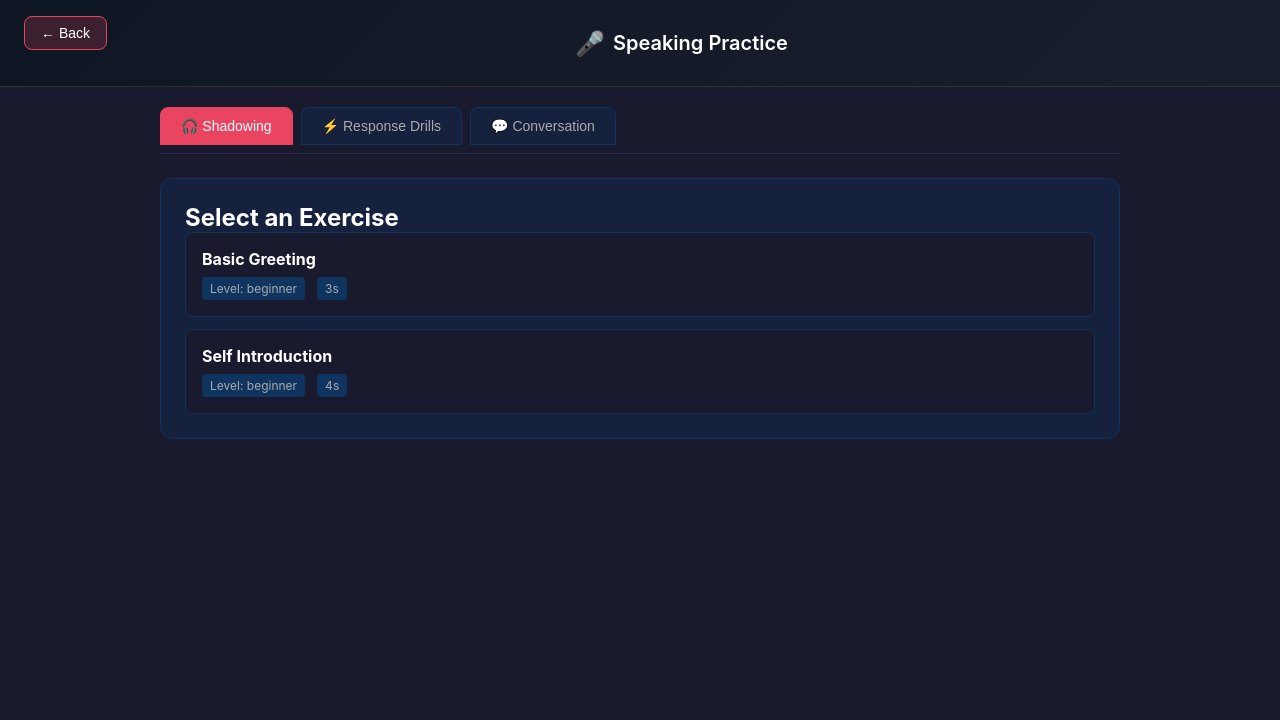
SpeakingMode › Shadowing Mode › should select an exercise when clicked
This screenshot has width=1280, height=720.
What coordinates should you click on to do the following:
click the heading "Basic Greeting"
I would click on:
 (259, 259)
Its box is [202,249,316,269].
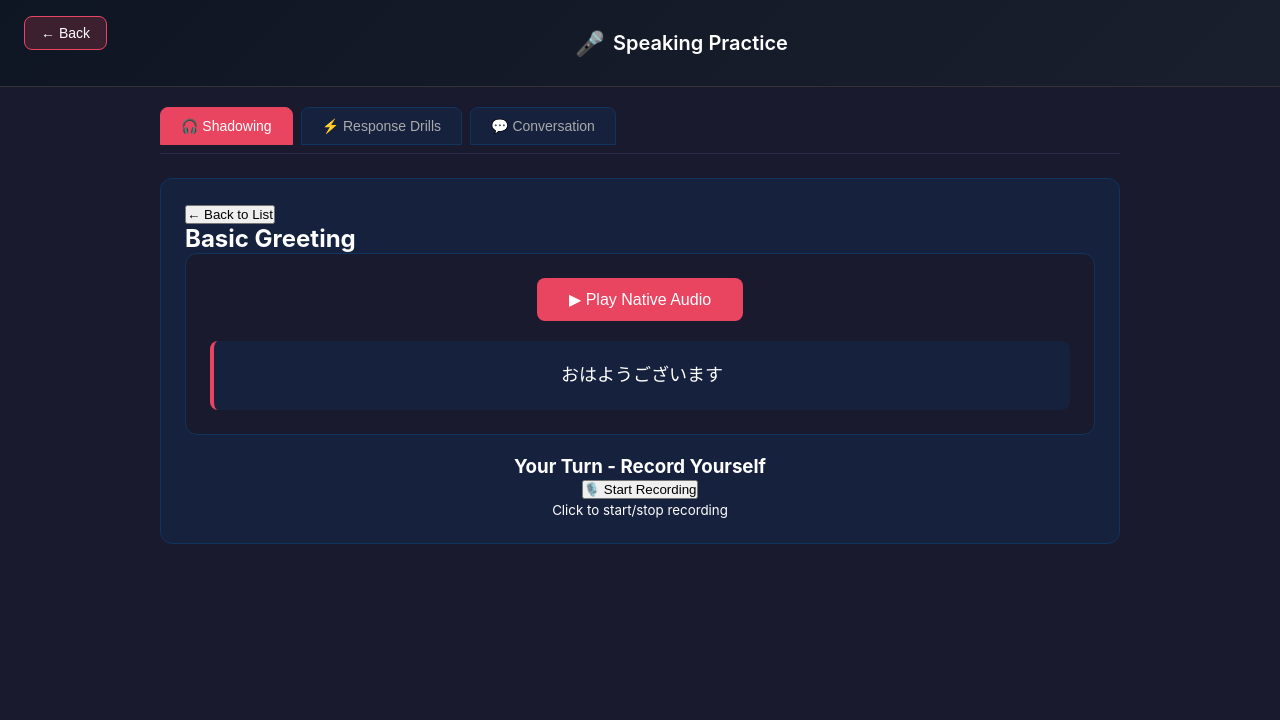
Expected: the button "← Back to List" is shown, [185,205,275,224]
Expected: the heading "Basic Greeting" is shown, [185,224,356,253]
